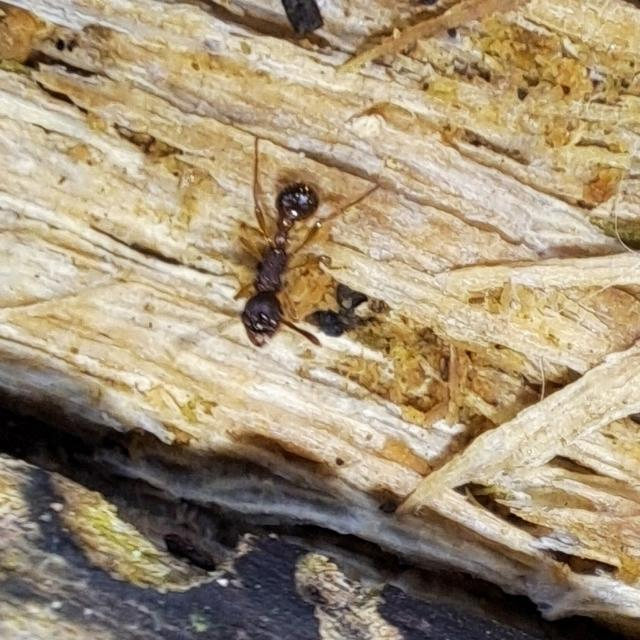Myrmica: (198, 148, 362, 358)
